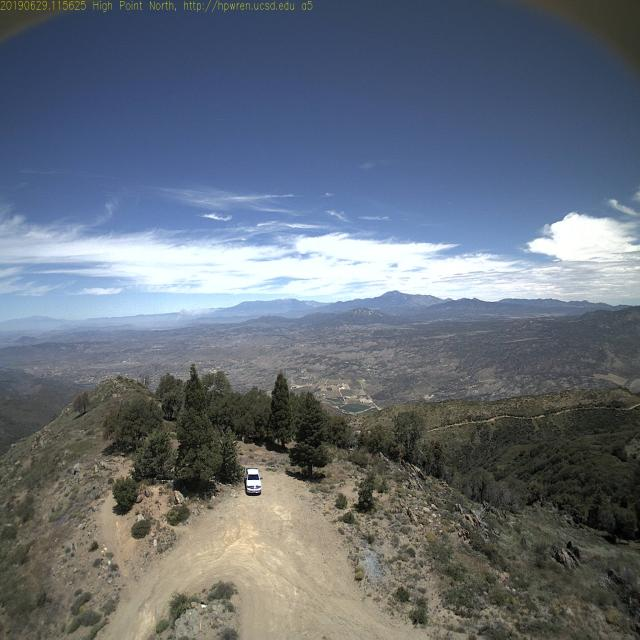smoke: (170, 300, 224, 332)
